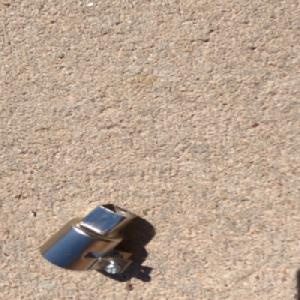MetalPart: (35, 202, 140, 277)
